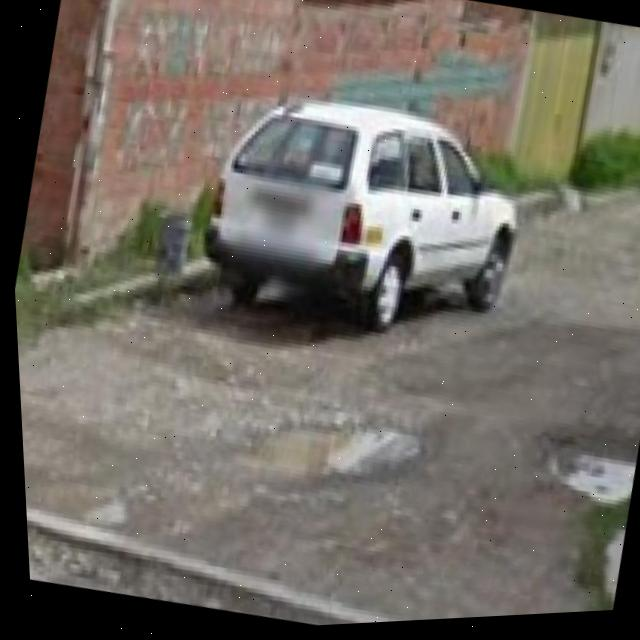vehicle: (184, 67, 542, 361)
